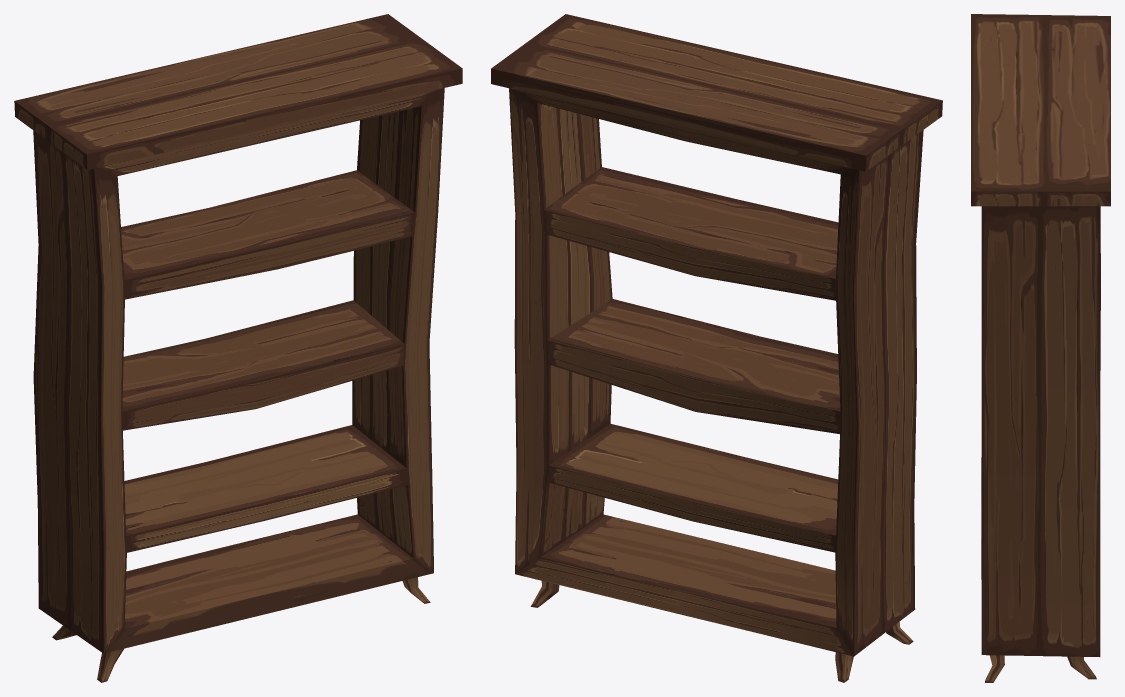
The model's file is SM_PROP_bookshelf_interior_02.fbx.
3 renders of one model, left to right at view 1: azimuth 30°, elevation 25°; view 2: azimuth 150°, elevation 25°; view 3: azimuth 270°, elevation 25°, orthographic. The views are drawn at different scales.
Parts seen in each view (by area): view 1: SM_PROP_bookshelf_interior_02; view 2: SM_PROP_bookshelf_interior_02; view 3: SM_PROP_bookshelf_interior_02.
Boxes of the visible parts, x1=… form: SM_PROP_bookshelf_interior_02: x1=14, y1=14, x2=462, y2=682; SM_PROP_bookshelf_interior_02: x1=491, y1=14, x2=942, y2=682; SM_PROP_bookshelf_interior_02: x1=971, y1=14, x2=1110, y2=682.
Bounding box in the file's own units: 153 × 210 × 52.54.
